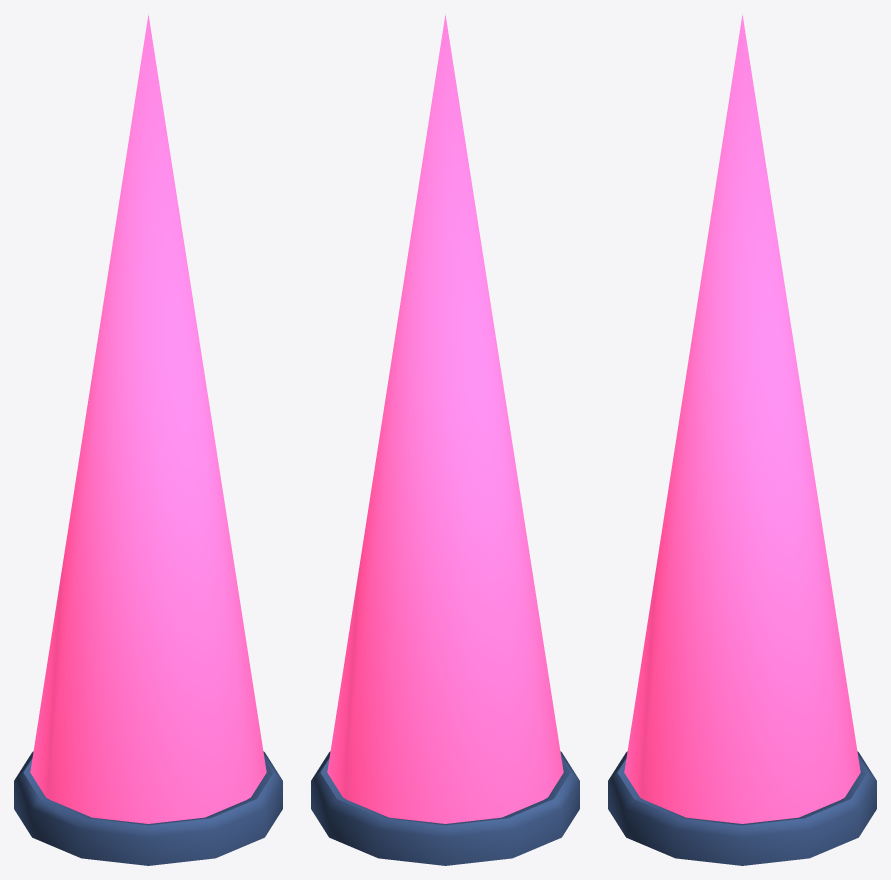
The model's file is Spike.fbx.
The picture shows the model from 3 angles, left to right: view 1: azimuth 30°, elevation 25°; view 2: azimuth 150°, elevation 25°; view 3: azimuth 270°, elevation 25°; orthographic projection.
Visible parts, largest first — view 1: Circle.003, Circle.002; view 2: Circle.003, Circle.002; view 3: Circle.003, Circle.002.
Boxes of the visible parts, bbox=[...] form: Circle.003: bbox=[30, 14, 266, 823]; Circle.002: bbox=[14, 751, 282, 865]; Circle.003: bbox=[327, 14, 563, 823]; Circle.002: bbox=[311, 751, 579, 865]; Circle.003: bbox=[624, 14, 860, 823]; Circle.002: bbox=[608, 751, 876, 865].
Size of the model in its own units: 0.2939 by 0.9595 by 0.2939.
